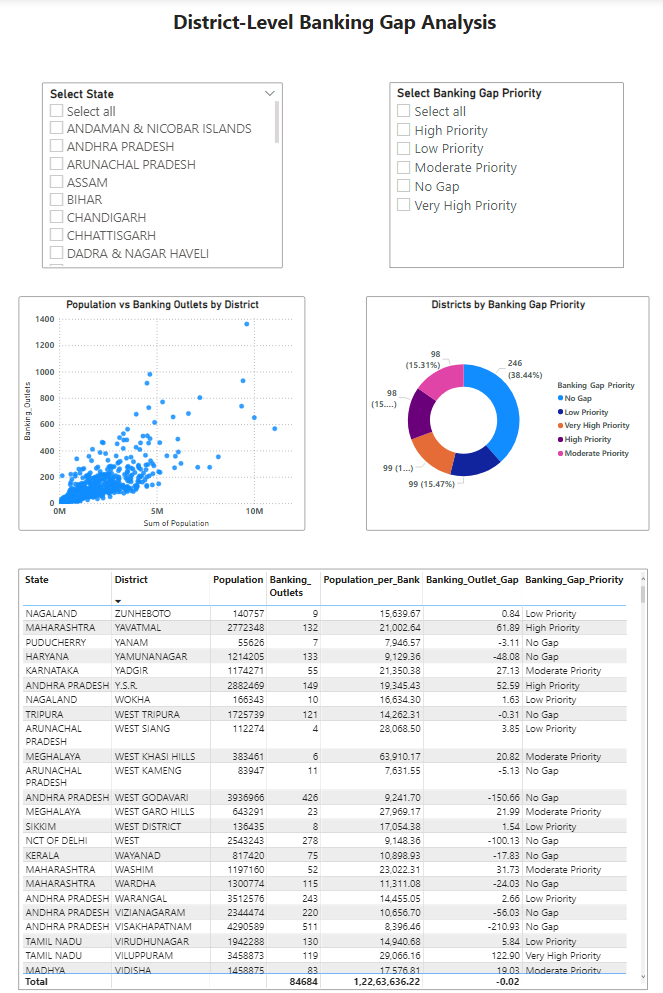

Layout of this report page (visuals, bound fields, positions):
{"tool":"powerbi","page":{"name":"Page 2","canvas":[1280,2000],"ordinal":1},"visuals":[{"type":"scatterChart","title":"Population vs Banking Outlets by District","fields":{"X":["Sum(district_banking_analysis.Population)"],"Y":["Sum(district_banking_analysis.Banking_Outlets)"],"Category":["district_banking_analysis.District"]},"box":[38.1,576,548.3,448],"z":0},{"type":"donutChart","title":"Districts by Banking Gap Priority","fields":{"Category":["district_banking_gap_analysis.Banking_Gap_Priority"],"Y":["CountNonNull(district_banking_gap_analysis.District)"]},"box":[700.5,576,541.4,448],"z":1000},{"type":"tableEx","fields":{"Values":["district_banking_gap_analysis.State","district_banking_gap_analysis.District","district_banking_gap_analysis.Population","Sum(district_banking_gap_analysis.Banking_Outlets)","Sum(district_banking_gap_analysis.Population_per_Bank)","Sum(district_banking_gap_analysis.Banking_Outlet_Gap)","district_banking_gap_analysis.Banking_Gap_Priority"]},"box":[38.1,1098.4,1203.9,806.1],"z":2000},{"type":"slicer","fields":{"Values":["district_banking_gap_analysis.Banking_Gap_Priority"]},"box":[747.2,167.8,448,354.6],"z":3000},{"type":"slicer","fields":{"Values":["district_banking_analysis.State"]},"box":[83,167.8,460.1,354.6],"z":4000},{"type":"textbox","box":[0,0,1280,77.8],"z":5000}]}

Visuals, with their boxes on the page's 1280x2000 design canvas (x1, y1, x2, y2). These are canvas units, not pixel positions in the 663x993 screenshot, which may show the page scaled, cropped or inside an application window:
"Population vs Banking Outlets by District" scatterChart: bbox=(38, 576, 586, 1024)
"Districts by Banking Gap Priority" donutChart: bbox=(700, 576, 1242, 1024)
tableEx - district_banking_gap_analysis.State x district_banking_gap_analysis.District: bbox=(38, 1098, 1242, 1904)
slicer - district_banking_gap_analysis.Banking_Gap_Priority: bbox=(747, 168, 1195, 522)
slicer - district_banking_analysis.State: bbox=(83, 168, 543, 522)
textbox: bbox=(0, 0, 1280, 78)
